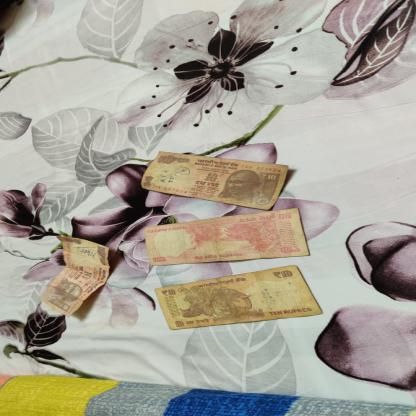Old10Back: (154, 265, 324, 330)
Old10Front: (140, 151, 290, 210), (40, 236, 110, 318)
Old20Back: (143, 207, 311, 266)
